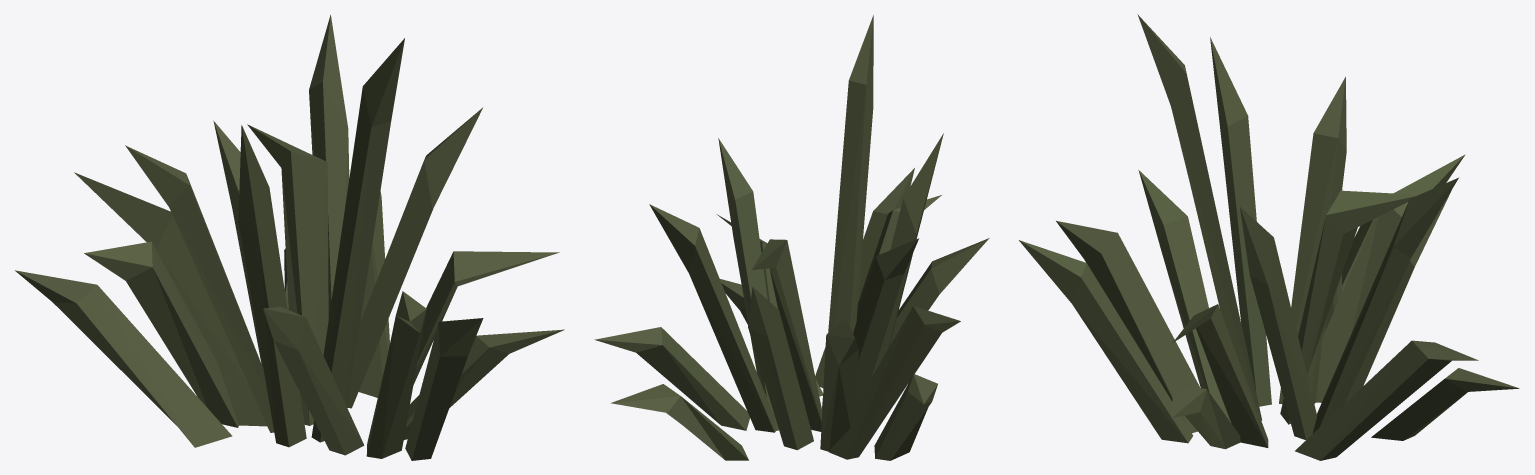
File: SM_Generic_Grass_Patch_02.glb
3 views of the same model, side by side, from view 1: azimuth 30°, elevation 25°; view 2: azimuth 150°, elevation 25°; view 3: azimuth 270°, elevation 25° (orthographic). The views are drawn at different scales.
Visible parts, largest first — view 1: SM_Generic_Grass_Patch_02; view 2: SM_Generic_Grass_Patch_02; view 3: SM_Generic_Grass_Patch_02.
Boxes of the visible parts, bbox=[...] form: SM_Generic_Grass_Patch_02: bbox=[15, 14, 564, 460]; SM_Generic_Grass_Patch_02: bbox=[594, 15, 989, 460]; SM_Generic_Grass_Patch_02: bbox=[1019, 14, 1519, 460].
Size of the model in its own units: 1.11 by 1.16 by 1.29.
Materials: 1 (1 with a texture image).
